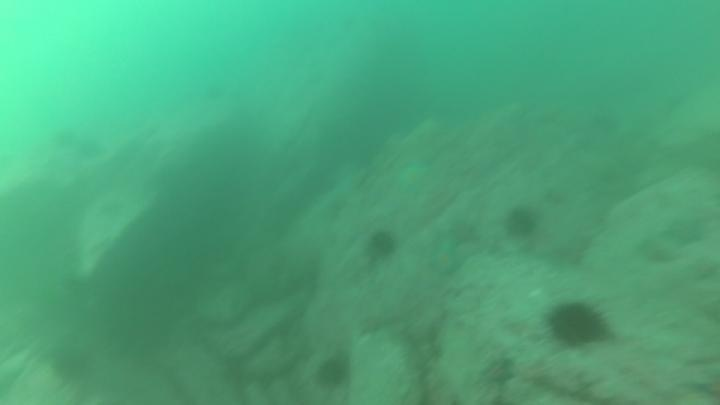echinus: (544, 298, 612, 350), (48, 342, 96, 385), (502, 203, 541, 242), (313, 353, 353, 391), (363, 227, 401, 263), (74, 135, 107, 164), (49, 125, 81, 154)
starfish: (659, 213, 710, 251), (425, 238, 467, 280), (392, 158, 434, 199), (477, 353, 520, 390), (445, 215, 482, 249)
